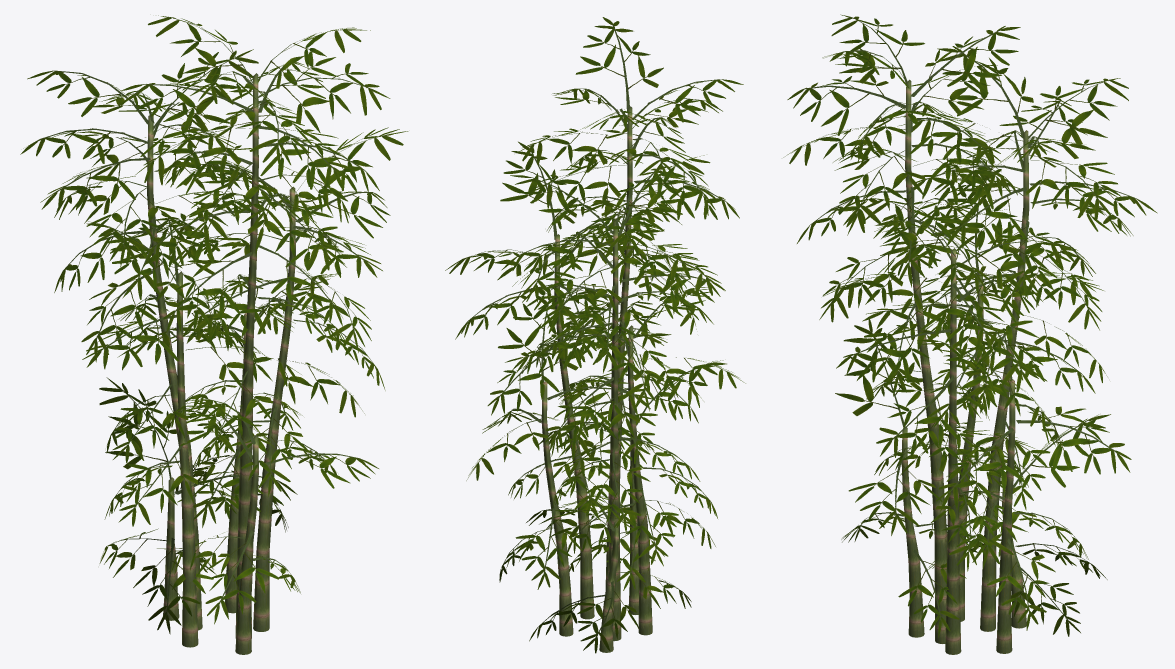
The model's file is bamboo.glb.
The picture shows the model from 3 angles, left to right: view 1: azimuth 30°, elevation 25°; view 2: azimuth 150°, elevation 25°; view 3: azimuth 270°, elevation 25°; orthographic projection. The views are drawn at different scales.
Visible parts, largest first — view 1: Tree_1_Tree_1Mat_0, Tree_0_Tree_0Mat_0; view 2: Tree_1_Tree_1Mat_0, Tree_0_Tree_0Mat_0; view 3: Tree_1_Tree_1Mat_0, Tree_0_Tree_0Mat_0.
Boxes of the visible parts, left/top/right/bottom form: Tree_1_Tree_1Mat_0: left=20, top=15, right=408, bottom=634; Tree_0_Tree_0Mat_0: left=147, top=73, right=295, bottom=654; Tree_1_Tree_1Mat_0: left=445, top=17, right=745, bottom=653; Tree_0_Tree_0Mat_0: left=541, top=106, right=652, bottom=652; Tree_1_Tree_1Mat_0: left=783, top=14, right=1157, bottom=637; Tree_0_Tree_0Mat_0: left=901, top=79, right=1029, bottom=654.
Size of the model in its own units: 2.45 by 4.4 by 2.49.
Materials: 2 (2 with a texture image).
